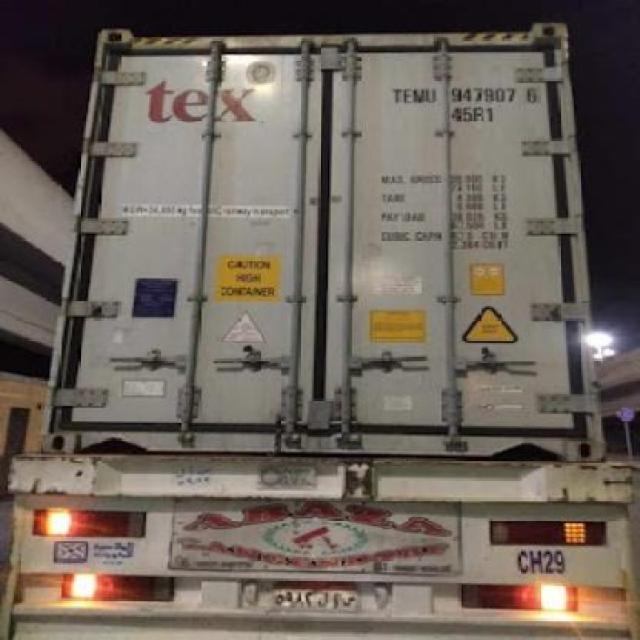ISO: (452, 106, 497, 124)
container_number: (393, 86, 542, 105)
